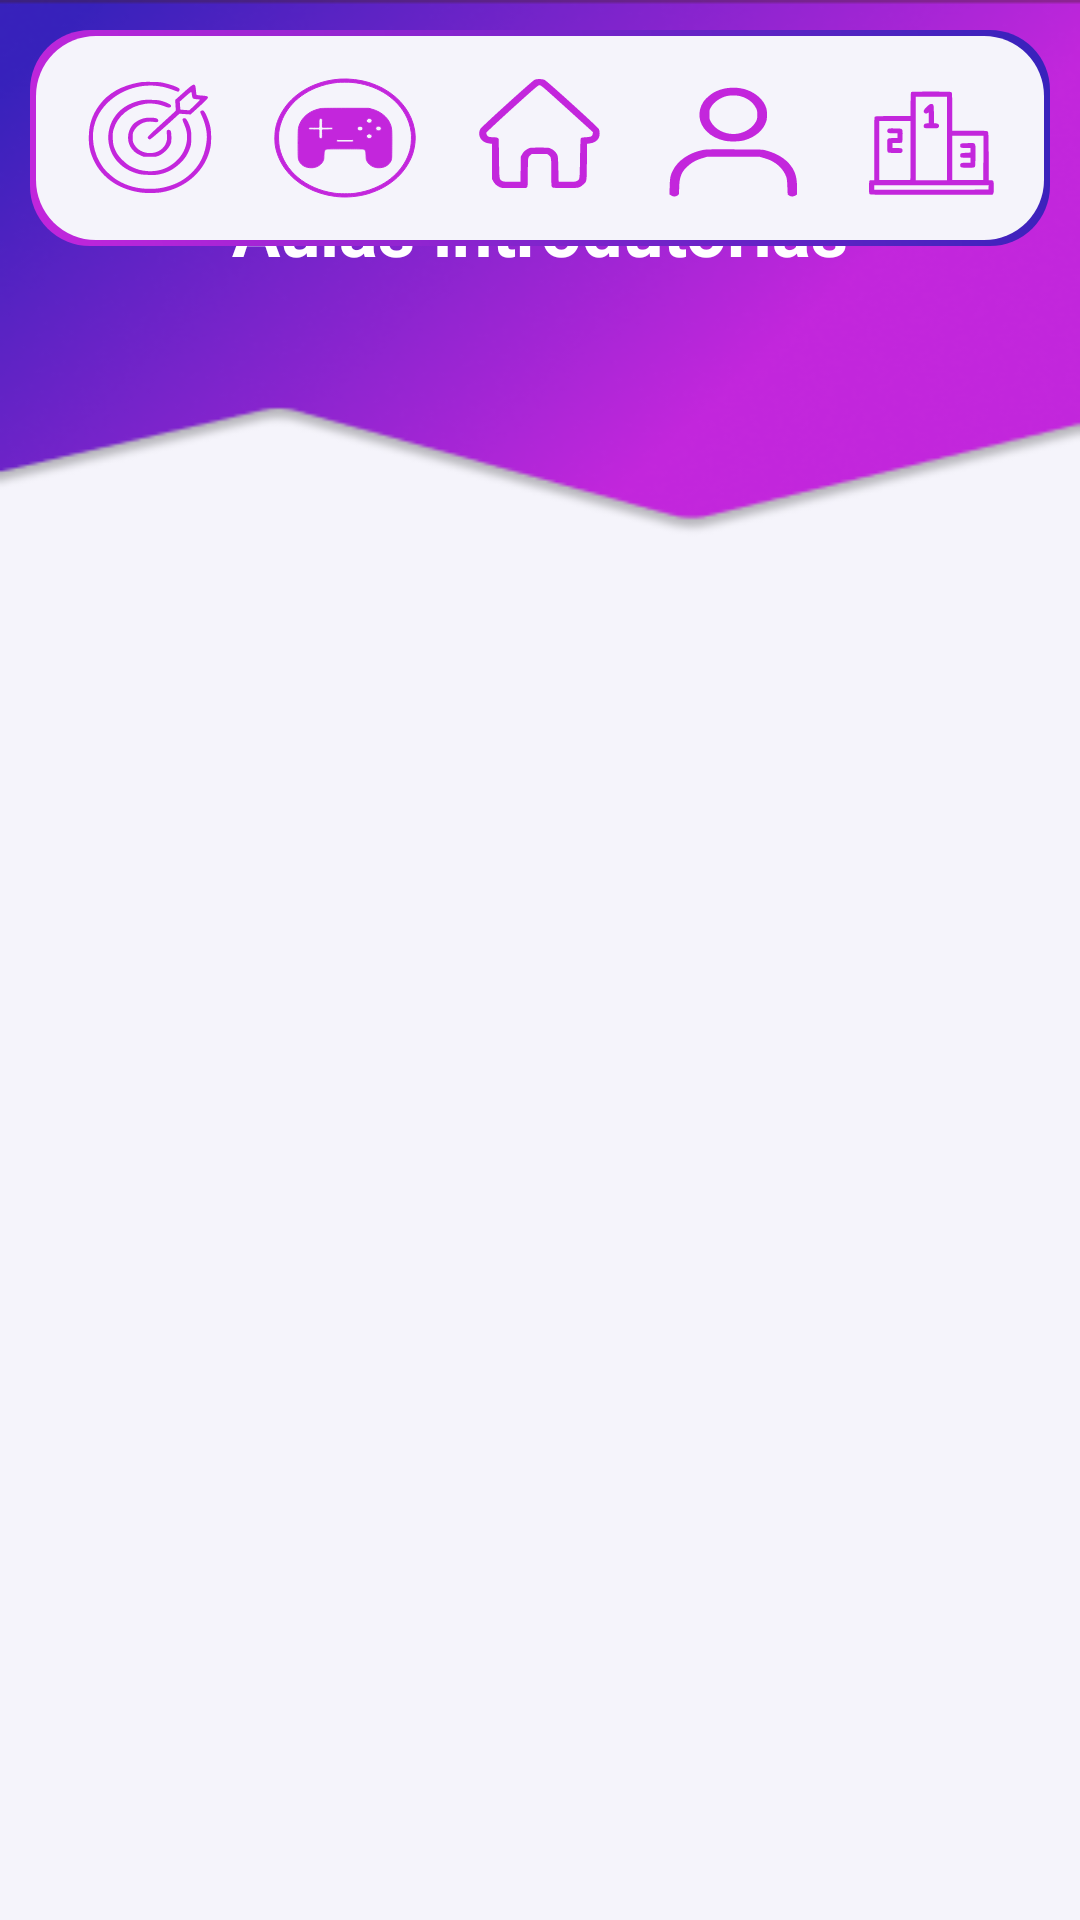

Where icons sit on this 1080×1920 app screen, as (x1, y1, x2, y2):
control: (274, 78, 416, 198)
home: (479, 79, 600, 188)
person: (669, 87, 797, 197)
ranking: (869, 91, 994, 195)
target: (88, 81, 212, 193)
